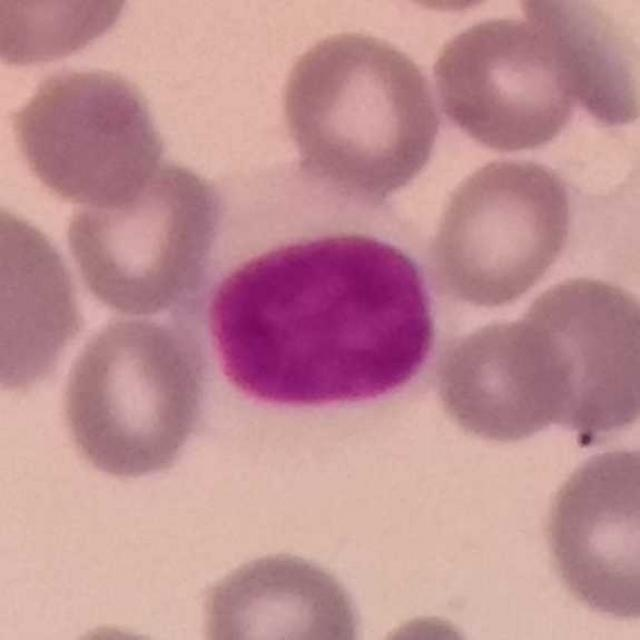Lymphocyte: (198, 166, 440, 440)
RBC: (274, 22, 445, 202), (60, 150, 228, 320), (54, 307, 212, 484), (4, 60, 170, 212), (426, 7, 591, 158), (425, 150, 579, 311), (502, 268, 640, 446), (428, 312, 579, 448), (535, 441, 640, 624), (0, 195, 88, 396), (192, 543, 370, 640), (512, 0, 640, 131), (0, 0, 139, 71), (346, 607, 498, 640), (38, 617, 207, 640), (355, 0, 530, 17)
